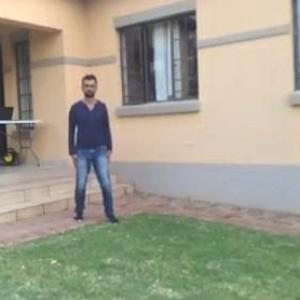follow: (67, 66, 115, 234)
